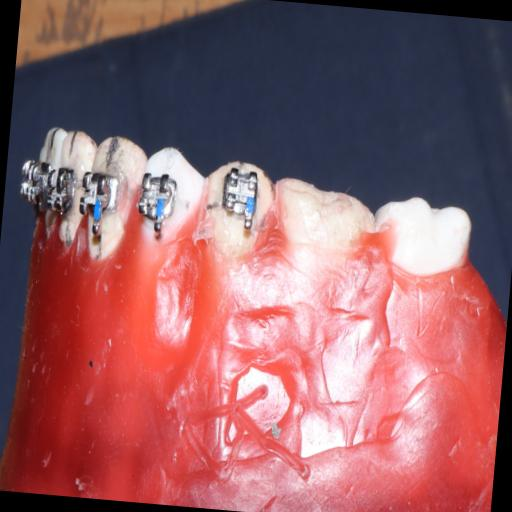incorrect_brace: (220, 168, 262, 221)
